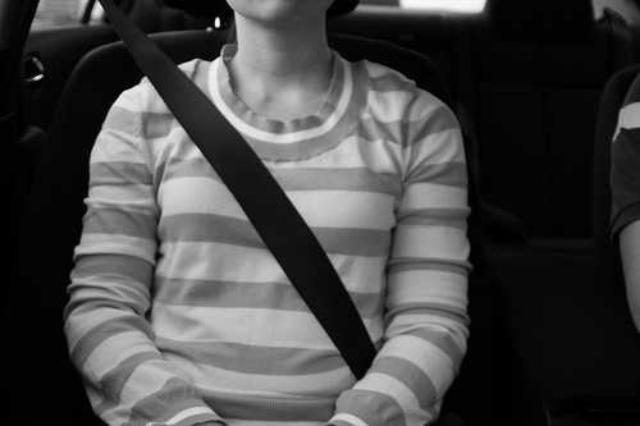Seatbelt: (95, 0, 378, 382)
